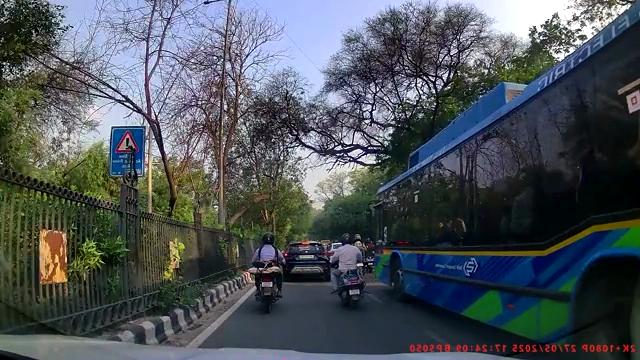motorcycle_with_helmet: (249, 232, 285, 314), (329, 232, 366, 307)
